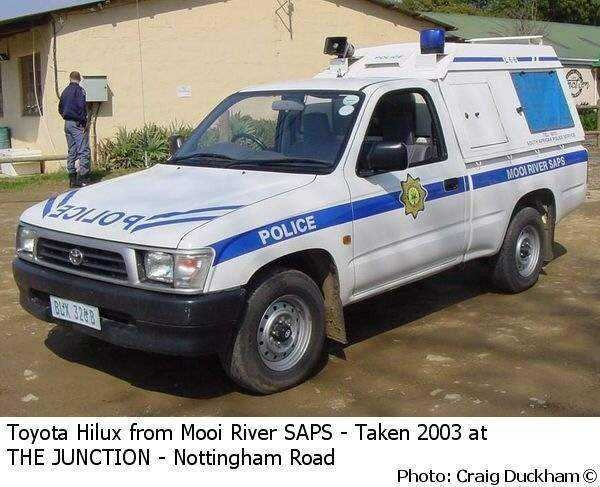Police Van: (22, 37, 581, 360)
